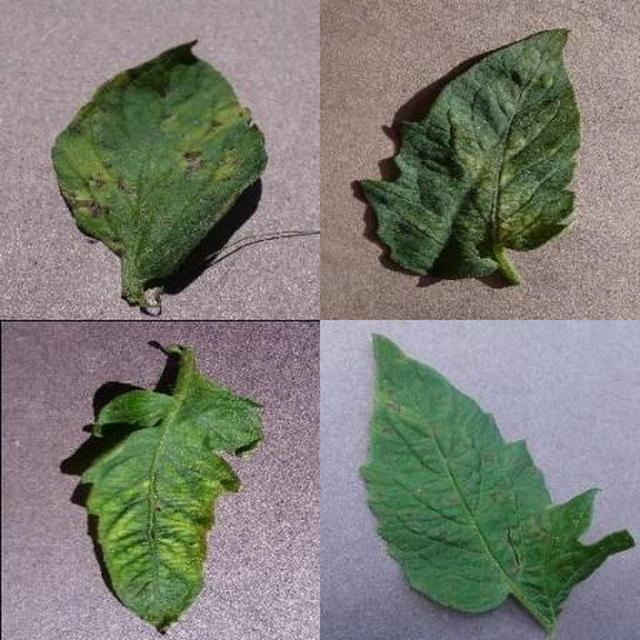Septoria Leaf: (231, 220, 640, 640)
